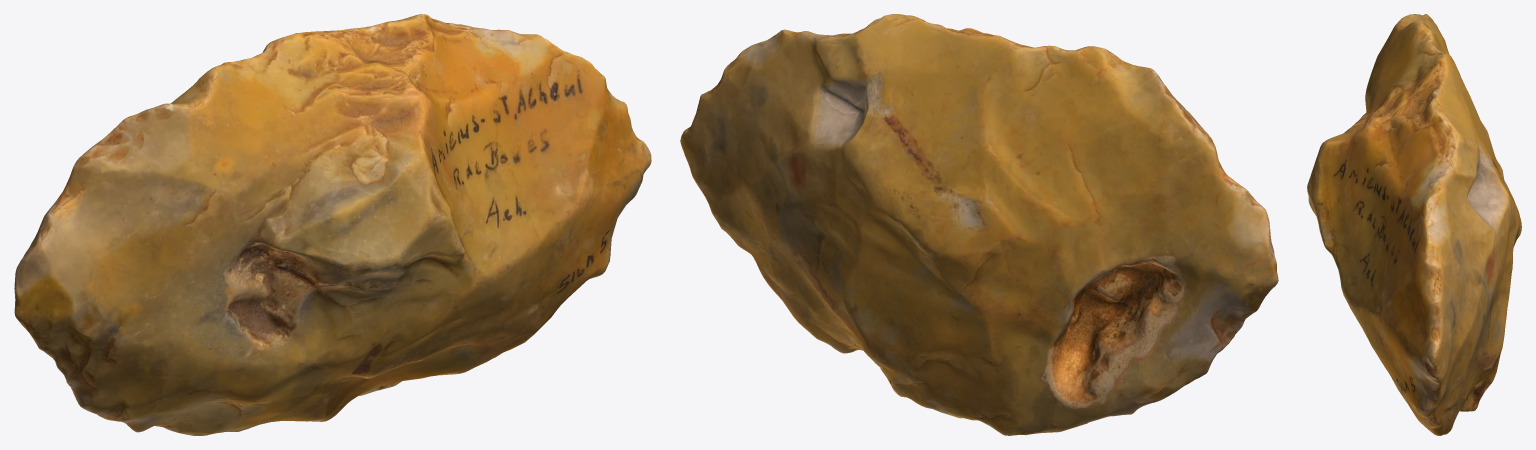
3 renders of one model, left to right at view 1: azimuth 30°, elevation 25°; view 2: azimuth 150°, elevation 25°; view 3: azimuth 270°, elevation 25°, orthographic. The views are drawn at different scales.
Parts seen in each view (by area): view 1: Object_2; view 2: Object_2; view 3: Object_2.
Part boxes in pixels (x1=…): Object_2: x1=14, y1=14, x2=651, y2=435; Object_2: x1=680, y1=14, x2=1278, y2=435; Object_2: x1=1307, y1=14, x2=1521, y2=435.
Bounding box in the file's own units: 0.0993 × 0.0603 × 0.0358.
Materials: 1 (1 with a texture image).
